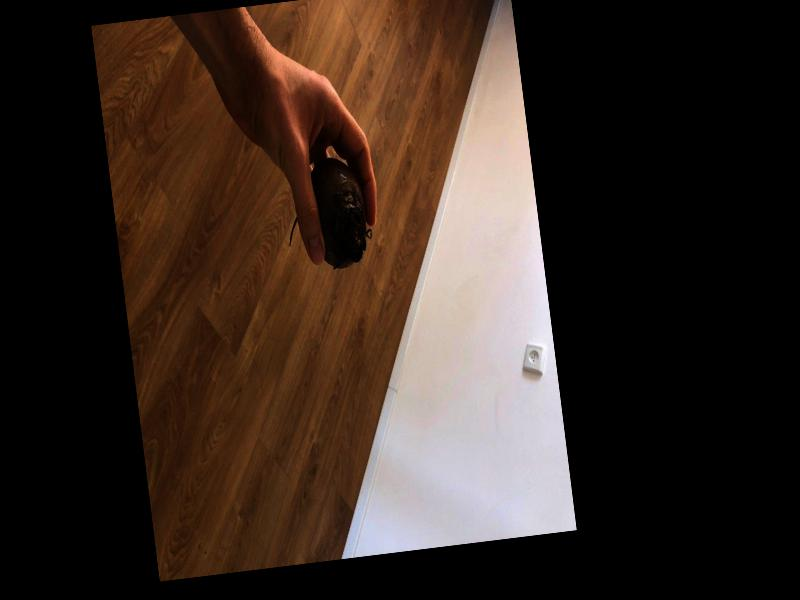Beet: (279, 155, 374, 275)
